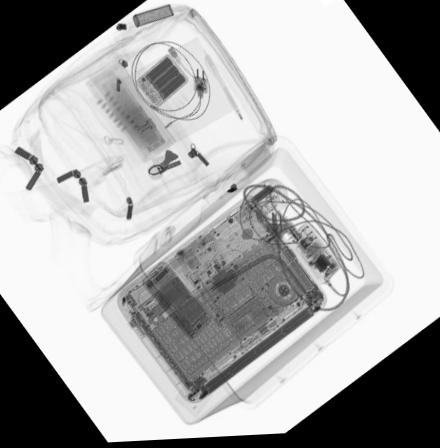Powerbank: (132, 55, 189, 112)
